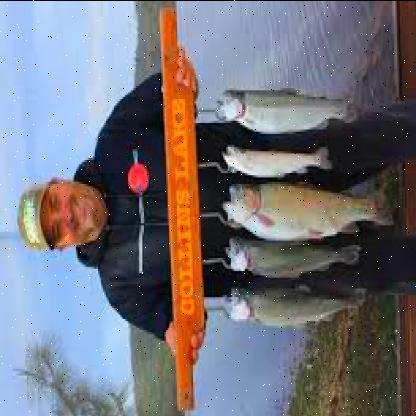fish: (217, 181, 393, 241), (226, 282, 367, 330), (211, 90, 358, 136), (223, 234, 360, 280), (221, 144, 332, 180)
